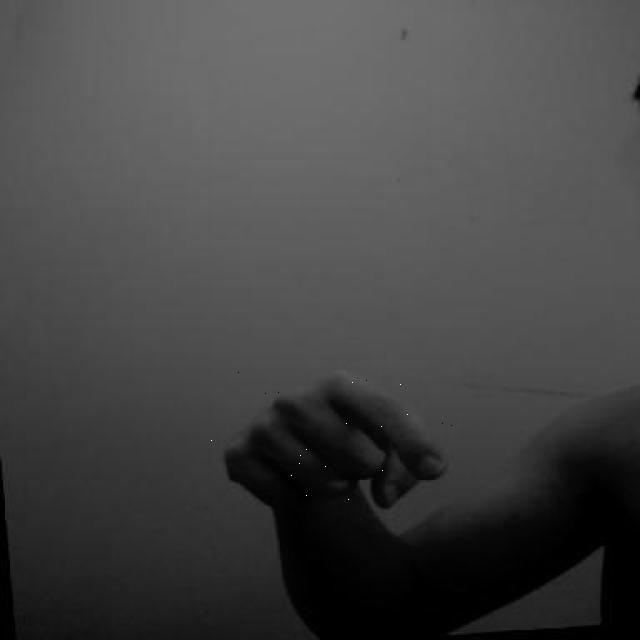Z: (207, 365, 453, 523)
